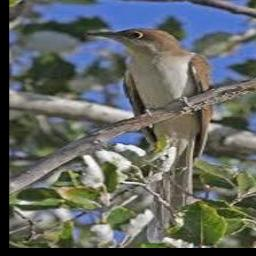Cuckoo: (87, 29, 214, 235)
